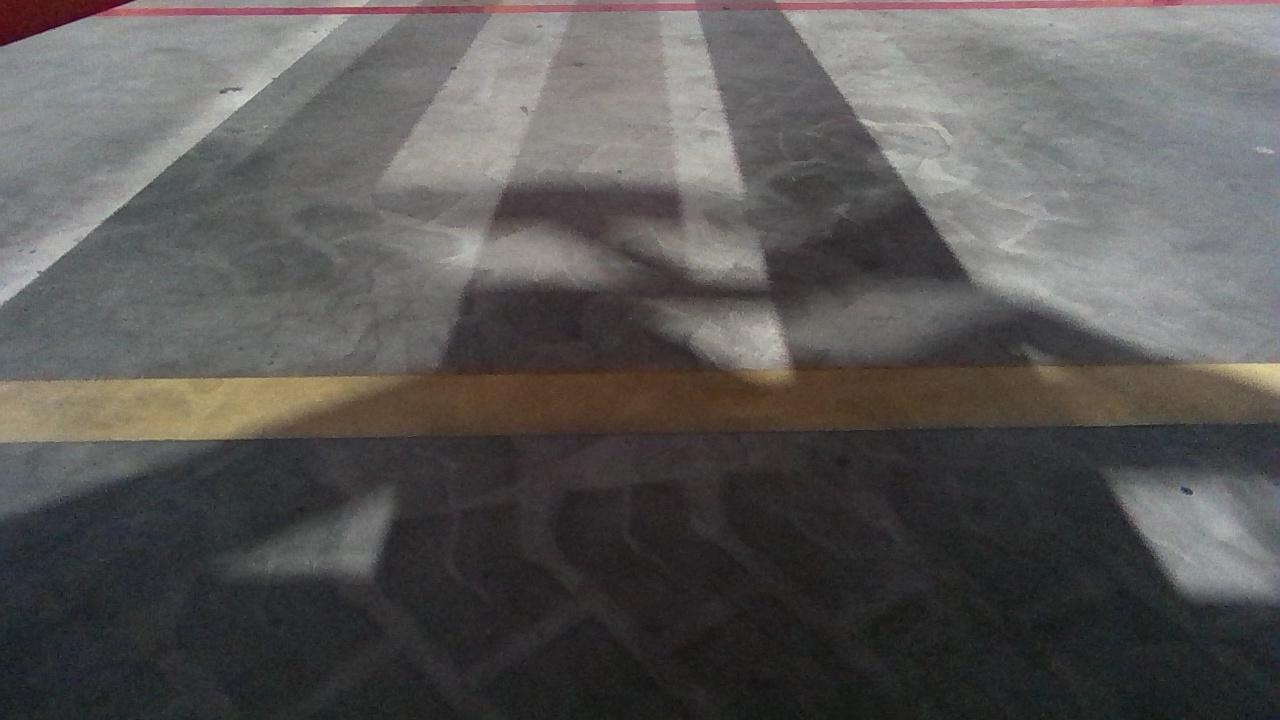red_line: (0, 0, 1136, 17)
yellow_line: (0, 357, 1280, 438)
